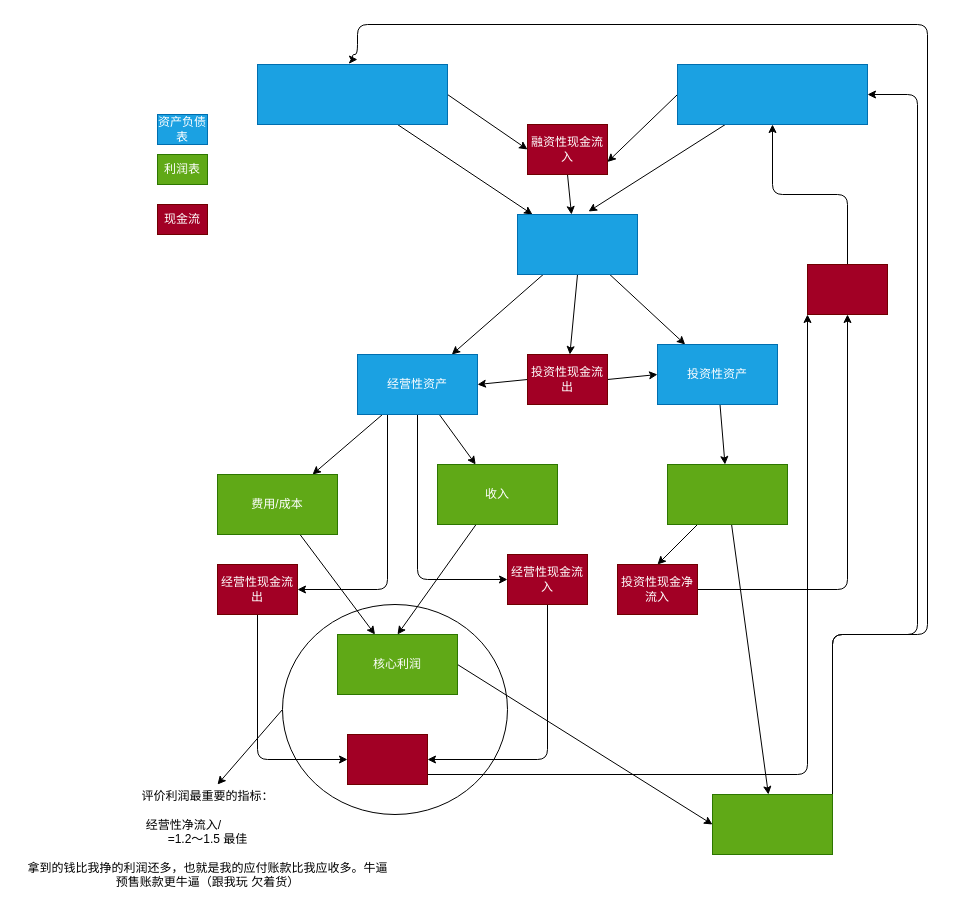
Image size: 953x907. Some labels were removed from this diagram. Each missing label, with the box of its shape:
债权人（债务）: (676, 64, 868, 124)
利润: (712, 794, 832, 854)
投资收益: (666, 464, 788, 524)
投资者投入（所有者权益）: (256, 64, 448, 124)
经营性现金净流入: (346, 734, 428, 784)
融资性现金流出: (806, 264, 888, 314)
资产: (516, 214, 638, 274)
